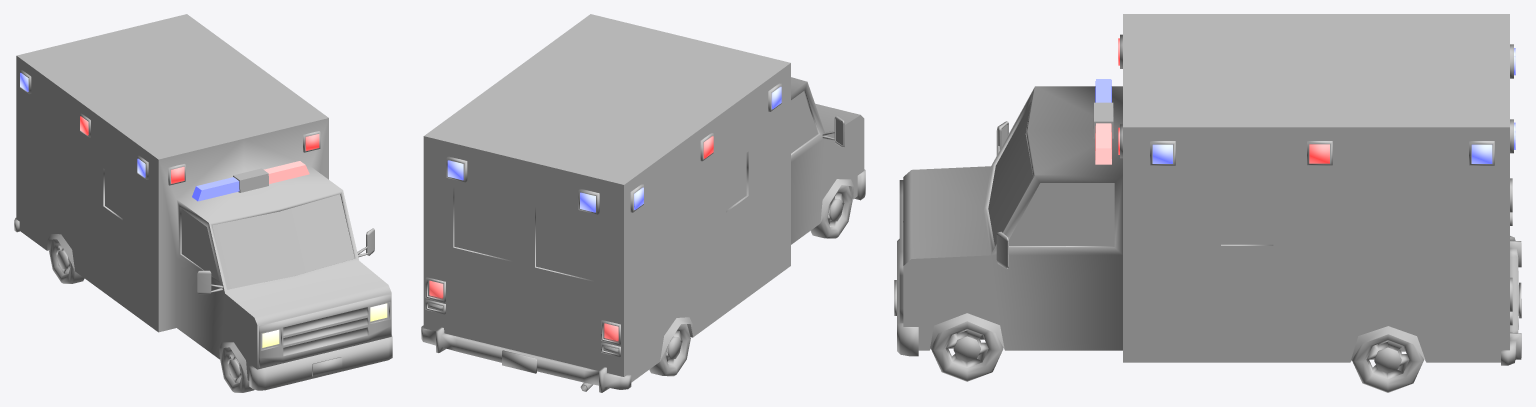
The model's file is Ambulance Car1.fbx.
The picture shows the model from 3 angles, left to right: view 1: azimuth 30°, elevation 25°; view 2: azimuth 150°, elevation 25°; view 3: azimuth 270°, elevation 25°; orthographic projection. The views are drawn at different scales.
Parts seen in each view (by area): view 1: Ambulance Car1; view 2: Ambulance Car1; view 3: Ambulance Car1.
Boxes of the visible parts, left/top/right/bottom form: Ambulance Car1: left=14, top=14, right=392, bottom=392; Ambulance Car1: left=421, top=14, right=865, bottom=392; Ambulance Car1: left=894, top=14, right=1521, bottom=392.
Bounding box in the file's own units: 3.19 × 3.35 × 7.13.
